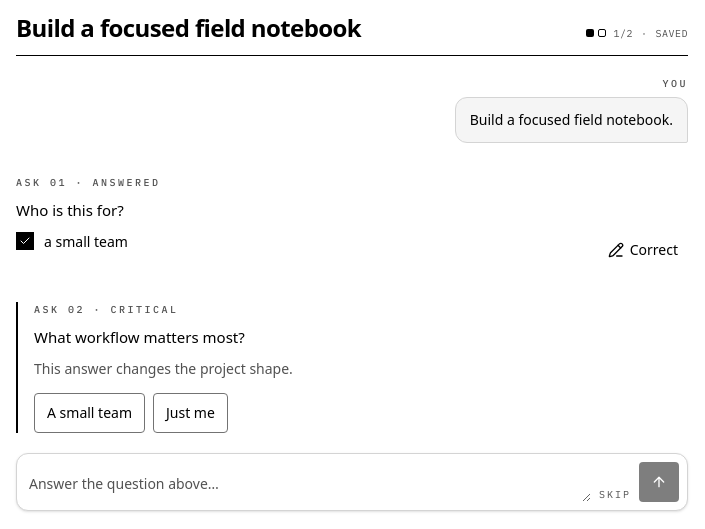
it: DiscoveryFlow › sends an explicit suggested answer, reloads, and auto-advances to the next question
What coordinates should you click on to do the following:
click the button "A small team"
I would click on:
 (90, 413)
Its box is [34,393,145,433].
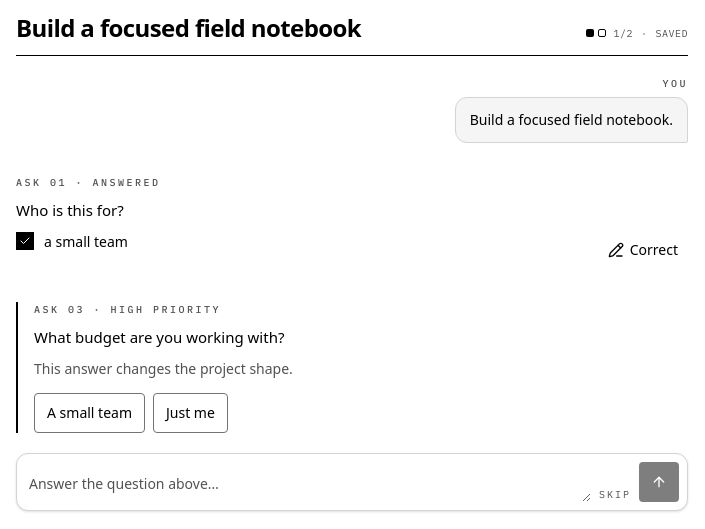
Expected: the heading "What budget are you working with?" is shown, [34,327,284,347]
